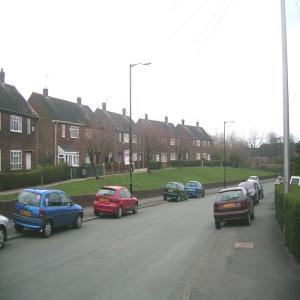Vehicle-registration-plate: (21, 211, 32, 218), (225, 205, 236, 207)
